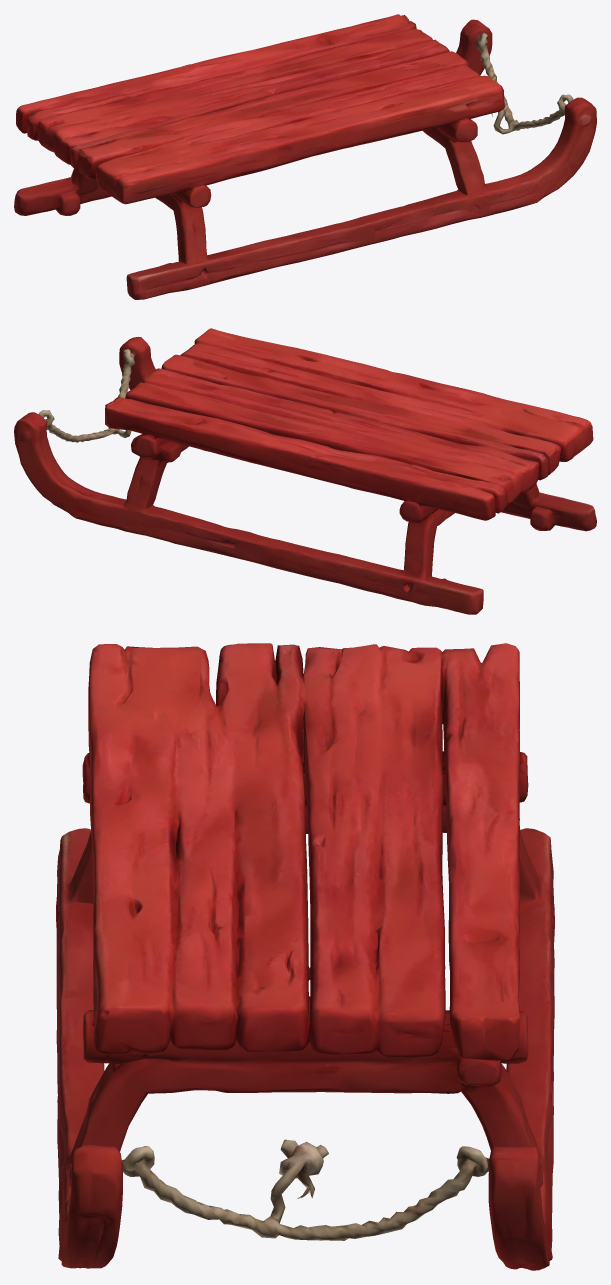
File: sled.glb
3 renders of one model, top to bottom at view 1: azimuth 30°, elevation 25°; view 2: azimuth 150°, elevation 25°; view 3: azimuth 270°, elevation 25°, orthographic. The views are drawn at different scales.
Parts seen in each view (by area): view 1: tripo_node_08dd69ad-841f-4196-bbde-dc6fc8f3597a; view 2: tripo_node_08dd69ad-841f-4196-bbde-dc6fc8f3597a; view 3: tripo_node_08dd69ad-841f-4196-bbde-dc6fc8f3597a.
Boxes of the visible parts, <box> form: tripo_node_08dd69ad-841f-4196-bbde-dc6fc8f3597a: <box>14,14,596,299</box>; tripo_node_08dd69ad-841f-4196-bbde-dc6fc8f3597a: <box>14,328,596,614</box>; tripo_node_08dd69ad-841f-4196-bbde-dc6fc8f3597a: <box>56,643,554,1270</box>.
Size of the model in its own units: 1 by 0.2434 by 0.4586.
Materials: 1 (1 with a texture image).
